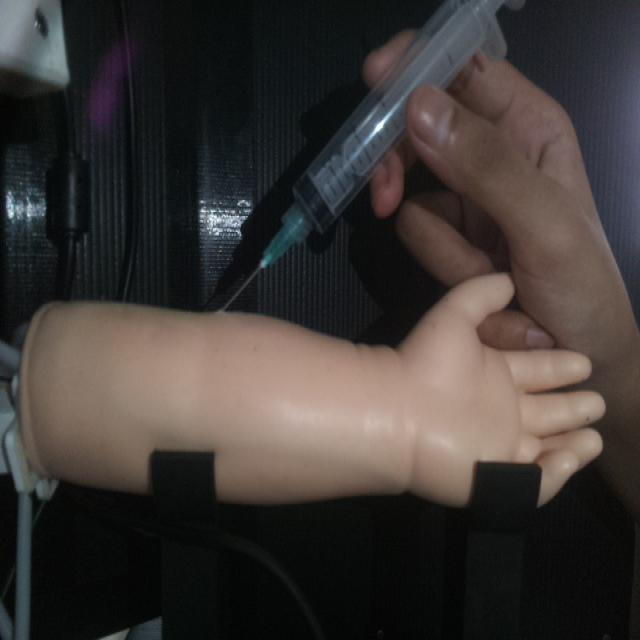Outside: (212, 0, 536, 315)
